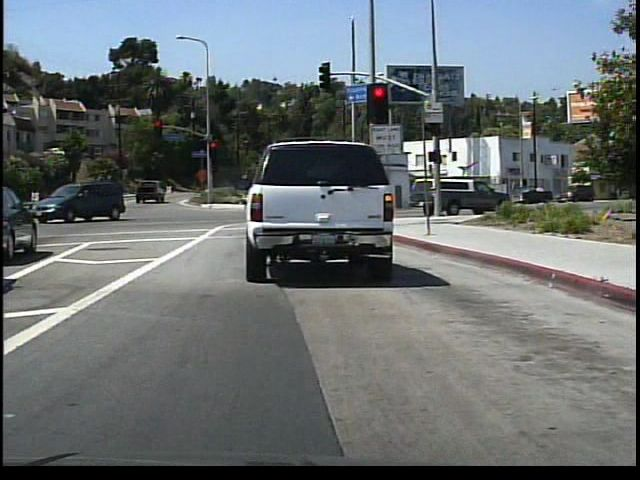car: (244, 150, 399, 282), (30, 179, 126, 221), (134, 176, 165, 203)
